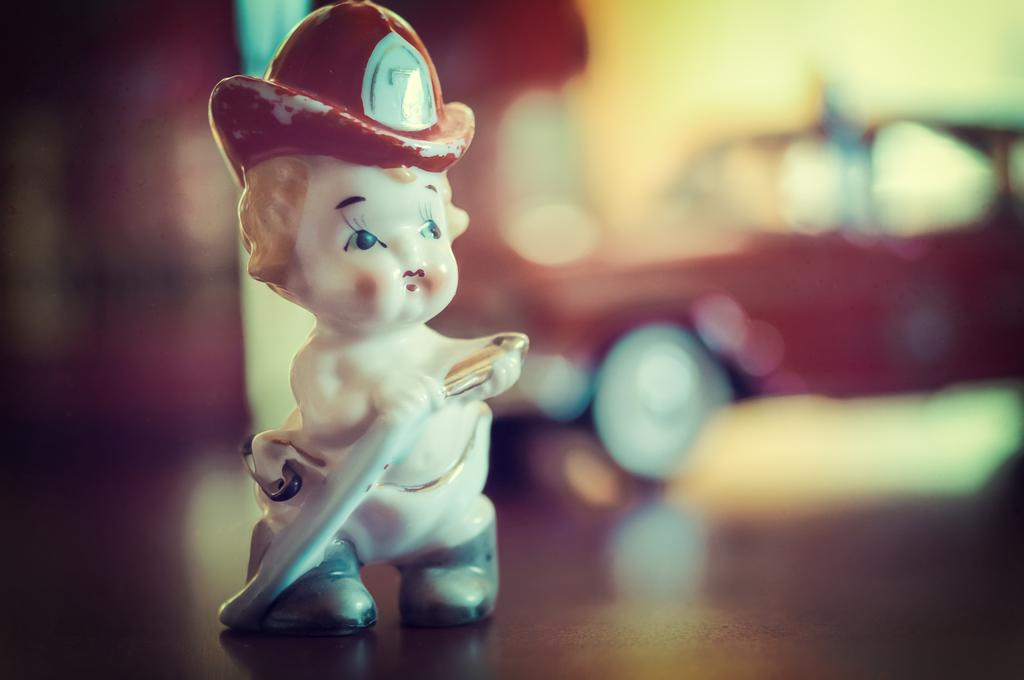Hat: (205, 0, 477, 173)
